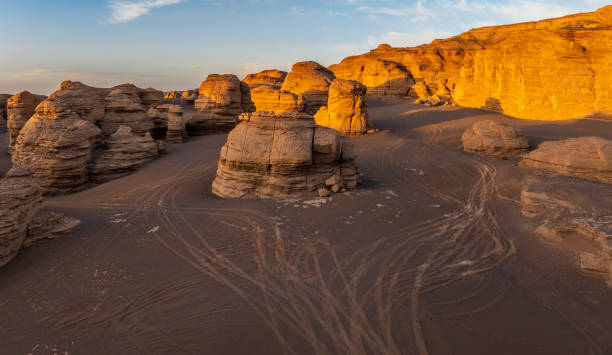vehicle_track: (146, 160, 514, 353)
